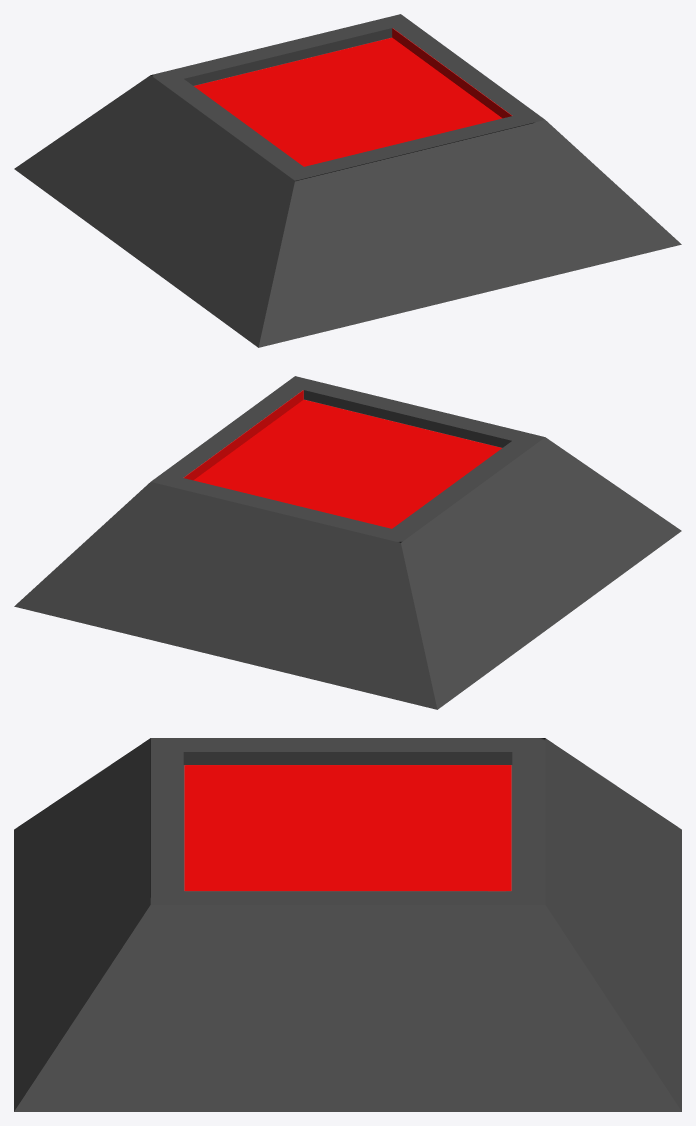
The model's file is FloorSwitchOff.fbx.
3 renders of one model, top to bottom at view 1: azimuth 30°, elevation 25°; view 2: azimuth 150°, elevation 25°; view 3: azimuth 270°, elevation 25°, orthographic. The views are drawn at different scales.
Parts seen in each view (by area): view 1: Cube; view 2: Cube; view 3: Cube.
Part boxes in pixels (x1,y1,x2,y2): Cube: (14, 14, 681, 347); Cube: (14, 376, 681, 709); Cube: (14, 738, 681, 1111).
Size of the model in its own units: 169 by 41.72 by 169.
